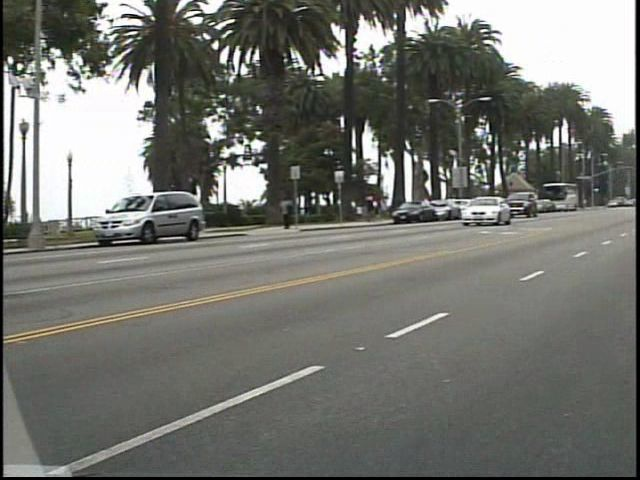person: (285, 193, 306, 233), (369, 188, 389, 223)
